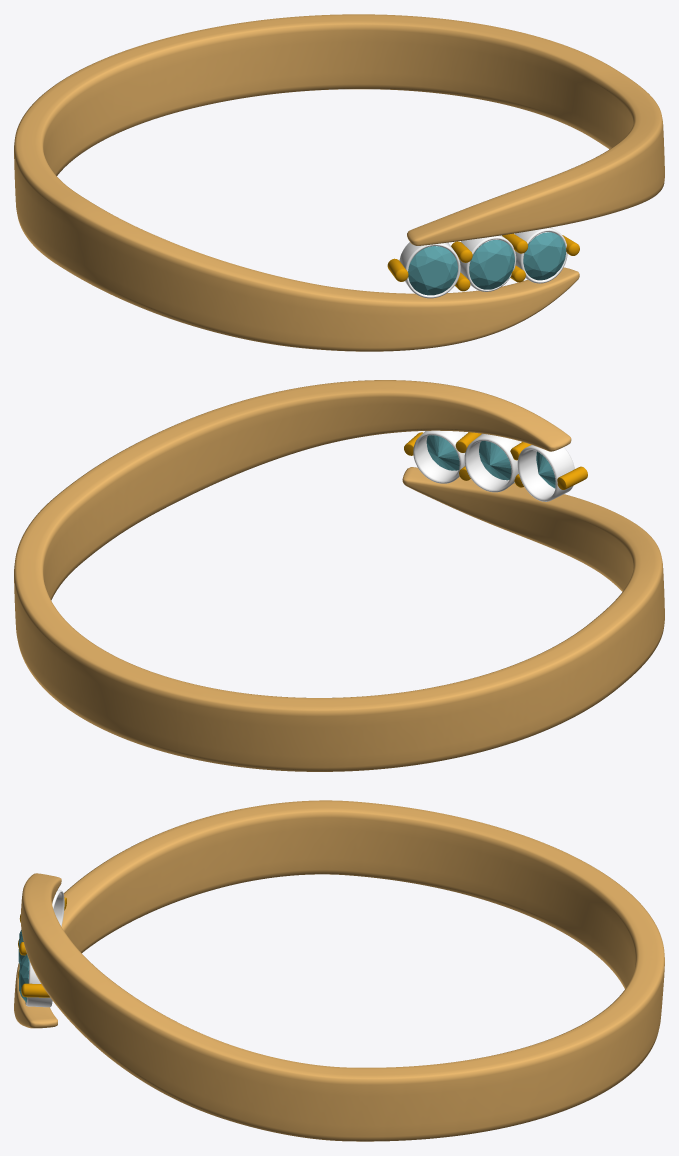
File: Ring_05.glb
The picture shows the model from 3 angles, top to bottom: view 1: azimuth 30°, elevation 25°; view 2: azimuth 150°, elevation 25°; view 3: azimuth 270°, elevation 25°; orthographic projection.
Visible parts, largest first — view 1: Bracelate_3; view 2: Bracelate_3; view 3: Bracelate_3.
Boxes of the visible parts, box(x1,y1,x2,y2) form: Bracelate_3: box(14, 14, 664, 351); Bracelate_3: box(14, 380, 664, 771); Bracelate_3: box(14, 800, 664, 1141).
Size of the model in its own units: 0.9777 by 0.2138 by 0.9846.
